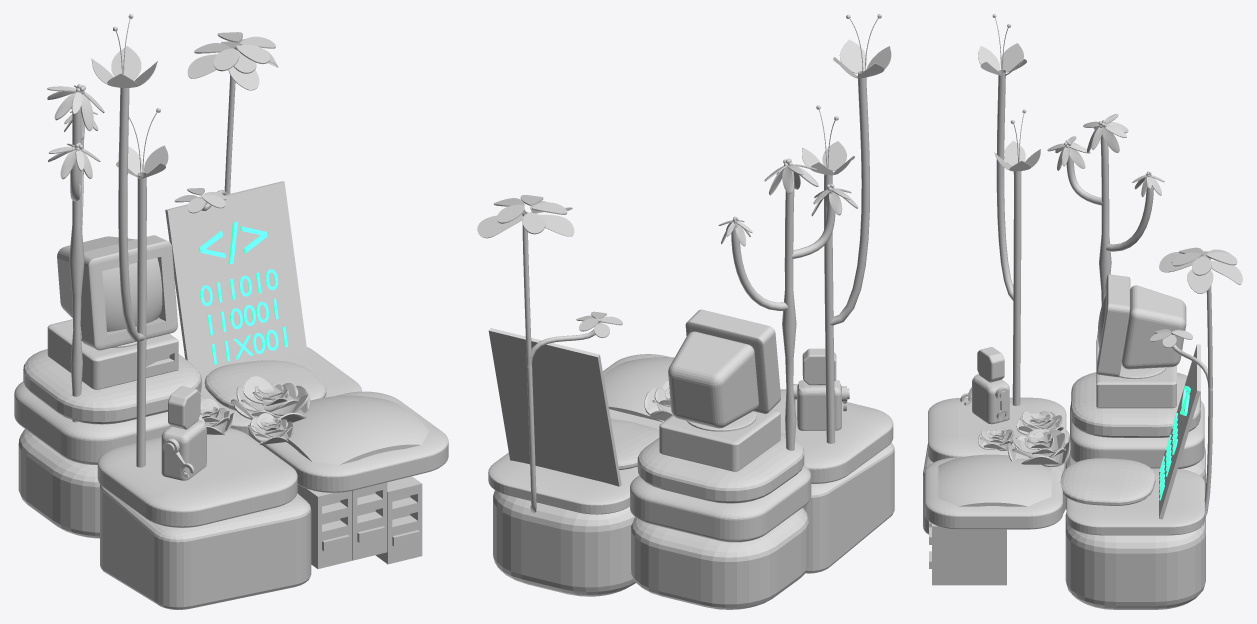
3 views of the same model, side by side, from view 1: azimuth 30°, elevation 25°; view 2: azimuth 150°, elevation 25°; view 3: azimuth 270°, elevation 25° (orthographic). The views are drawn at different scales.
Parts seen in each view (by area): view 1: code-board, Cube.007, Cube.001, tree2, cmd, Cube.010, Cube.005, Cube.003, tree3, pc-monitor, Cube.002, tree1 (+14 smaller); view 2: code-board, Cube.005, Cube.009, pc-monitor2, Cube.002, tree2, Cube.007, Cube.010, tree3, tree1, Cube.001, Cube.004 (+8 smaller); view 3: Cube.009, tree2, Cube.004, cmd, tree3, Cube.003, server3, Cube.001, Cube.010, tree1, pc-monitor2, Cube (+11 smaller).
Boxes of the visible parts, x1=… form: code-board: x1=165, y1=181, x2=307, y2=380; Cube.007: x1=100, y1=484, x2=311, y2=609; Cube.001: x1=97, y1=428, x2=297, y2=527; tree2: x1=91, y1=14, x2=168, y2=467; cmd: x1=286, y1=395, x2=428, y2=464; Cube.010: x1=23, y1=349, x2=201, y2=424; Cube.005: x1=18, y1=429, x2=100, y2=538; Cube.003: x1=248, y1=391, x2=448, y2=492; tree3: x1=47, y1=84, x2=104, y2=422; pc-monitor: x1=80, y1=235, x2=177, y2=350; Cube.002: x1=14, y1=381, x2=204, y2=464; tree1: x1=174, y1=32, x2=278, y2=213; code-board: x1=488, y1=328, x2=621, y2=486; Cube.005: x1=631, y1=508, x2=808, y2=609; Cube.009: x1=493, y1=490, x2=635, y2=596; pc-monitor2: x1=668, y1=331, x2=758, y2=428; Cube.002: x1=630, y1=465, x2=811, y2=542; tree2: x1=802, y1=14, x2=891, y2=443; Cube.007: x1=802, y1=443, x2=894, y2=573; Cube.010: x1=637, y1=433, x2=804, y2=503; tree3: x1=718, y1=158, x2=858, y2=450; tree1: x1=477, y1=195, x2=622, y2=513; Cube.001: x1=772, y1=389, x2=893, y2=483; Cube.004: x1=488, y1=452, x2=638, y2=514; Cube.009: x1=1065, y1=512, x2=1205, y2=609; tree2: x1=978, y1=14, x2=1040, y2=405; Cube.004: x1=1066, y1=468, x2=1204, y2=535; cmd: x1=938, y1=454, x2=1051, y2=506; tree3: x1=1047, y1=113, x2=1164, y2=305; Cube.003: x1=924, y1=457, x2=1062, y2=529; server3: x1=929, y1=523, x2=1006, y2=585; Cube.001: x1=928, y1=397, x2=1066, y2=462; Cube.010: x1=1071, y1=372, x2=1200, y2=437; tree1: x1=1150, y1=247, x2=1242, y2=517; pc-monitor2: x1=1122, y1=285, x2=1186, y2=369; Cube: x1=1060, y1=458, x2=1155, y2=505.
Bounding box in the file's own units: 653 × 1138 × 680.
